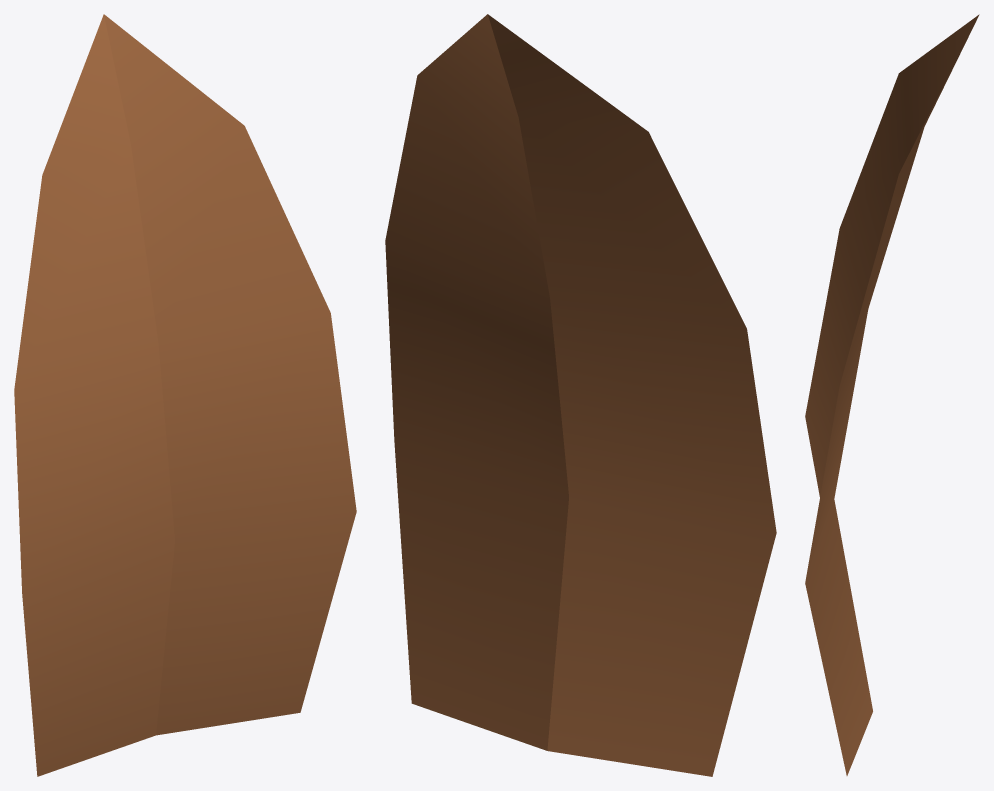
File: itch_kaykit_forest_grass_1_singlesided_mesh.glb
3 views of the same model, side by side, from view 1: azimuth 30°, elevation 25°; view 2: azimuth 150°, elevation 25°; view 3: azimuth 270°, elevation 25° (orthographic). The views are drawn at different scales.
Parts seen in each view (by area): view 1: Grass_1_SingleSided_Mesh; view 2: Grass_1_SingleSided_Mesh; view 3: Grass_1_SingleSided_Mesh.
Boxes of the visible parts, bbox=[...] form: Grass_1_SingleSided_Mesh: bbox=[14, 14, 356, 776]; Grass_1_SingleSided_Mesh: bbox=[385, 14, 776, 776]; Grass_1_SingleSided_Mesh: bbox=[805, 14, 979, 775].
Bounding box in the file's own units: 0.9482 × 1.85 × 0.42.
